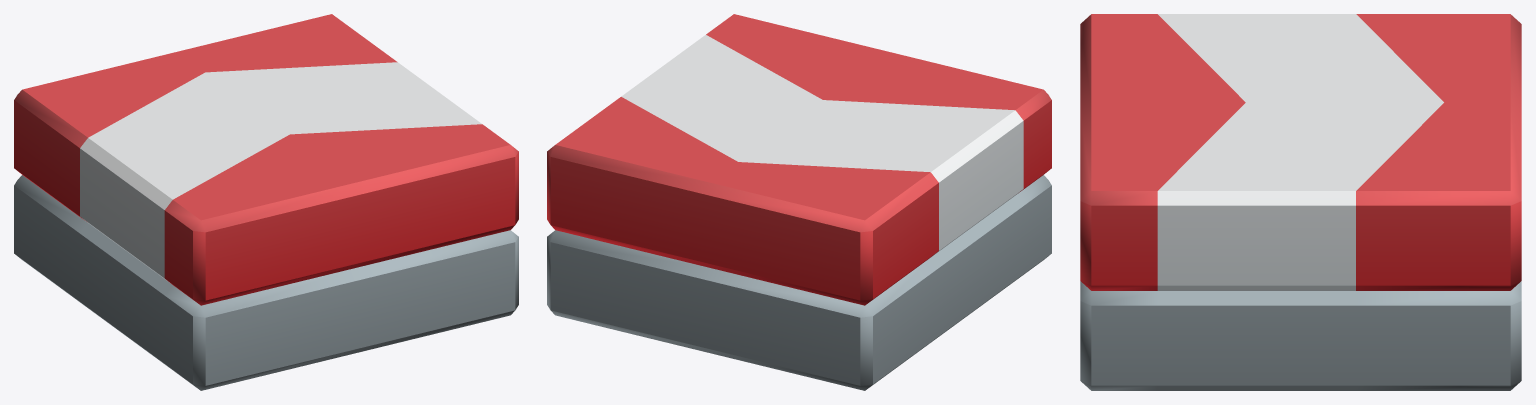
File: platform_arrow_2x2x1_red.glb
3 renders of one model, left to right at view 1: azimuth 30°, elevation 25°; view 2: azimuth 150°, elevation 25°; view 3: azimuth 270°, elevation 25°, orthographic. The views are drawn at different scales.
Visible parts, largest first — view 1: platform_arrow_2x2x1_red; view 2: platform_arrow_2x2x1_red; view 3: platform_arrow_2x2x1_red.
Boxes of the visible parts, left/top/right/bottom form: platform_arrow_2x2x1_red: left=14, top=14, right=518, bottom=390; platform_arrow_2x2x1_red: left=547, top=14, right=1051, bottom=390; platform_arrow_2x2x1_red: left=1080, top=14, right=1521, bottom=390.
Bounding box in the file's own units: 2 × 1 × 2.
Materials: 1 (1 with a texture image).
